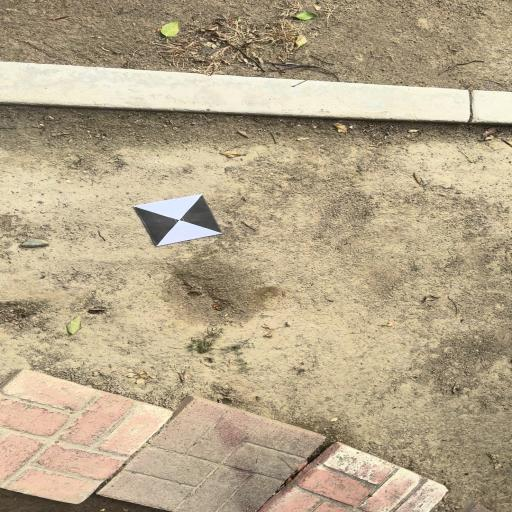target: (134, 194, 222, 246)
